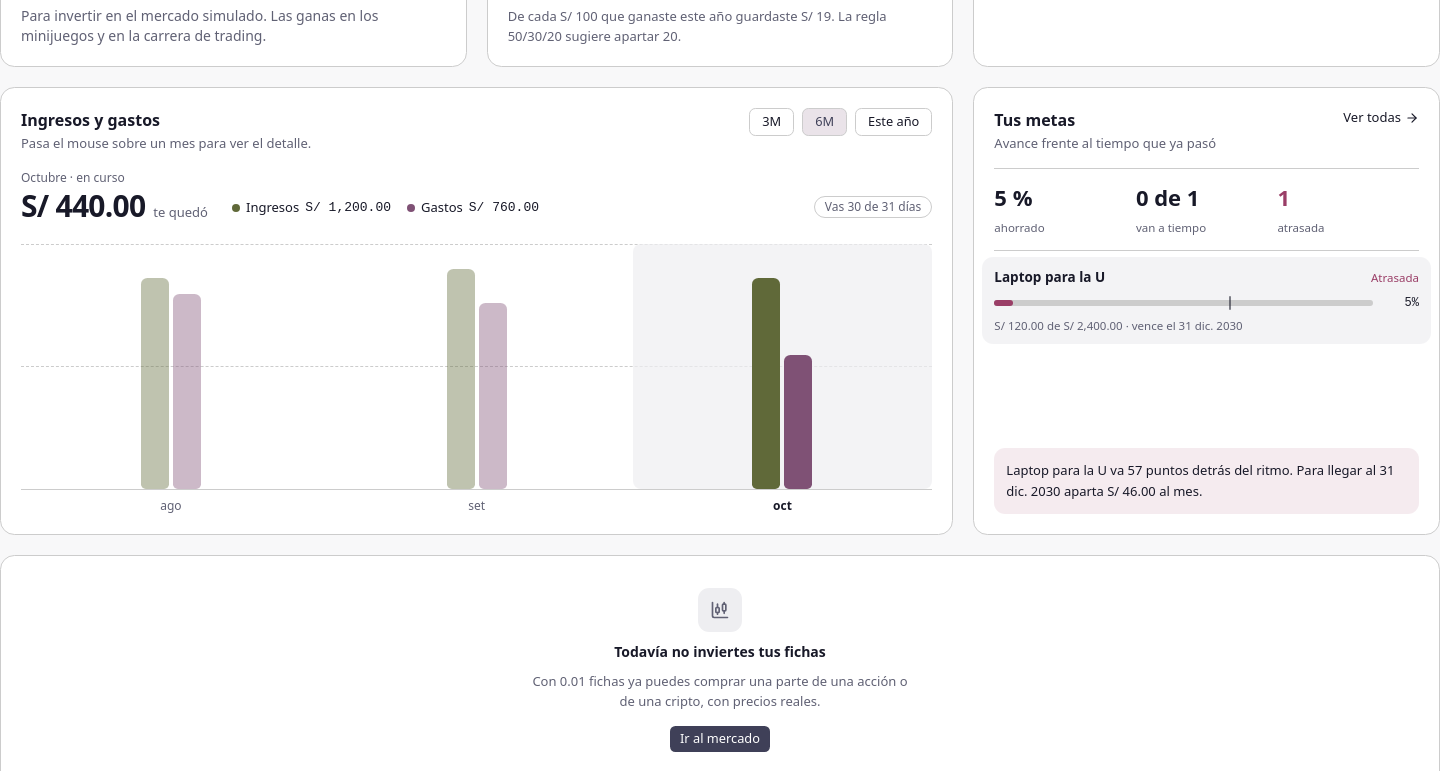
DashboardPage › pasar sobre un mes muestra lo que quedo ese mes
(page scrolled)
Hover over the button named "Setiembre: ingresos" at (477, 366), box [327,244,627,489]
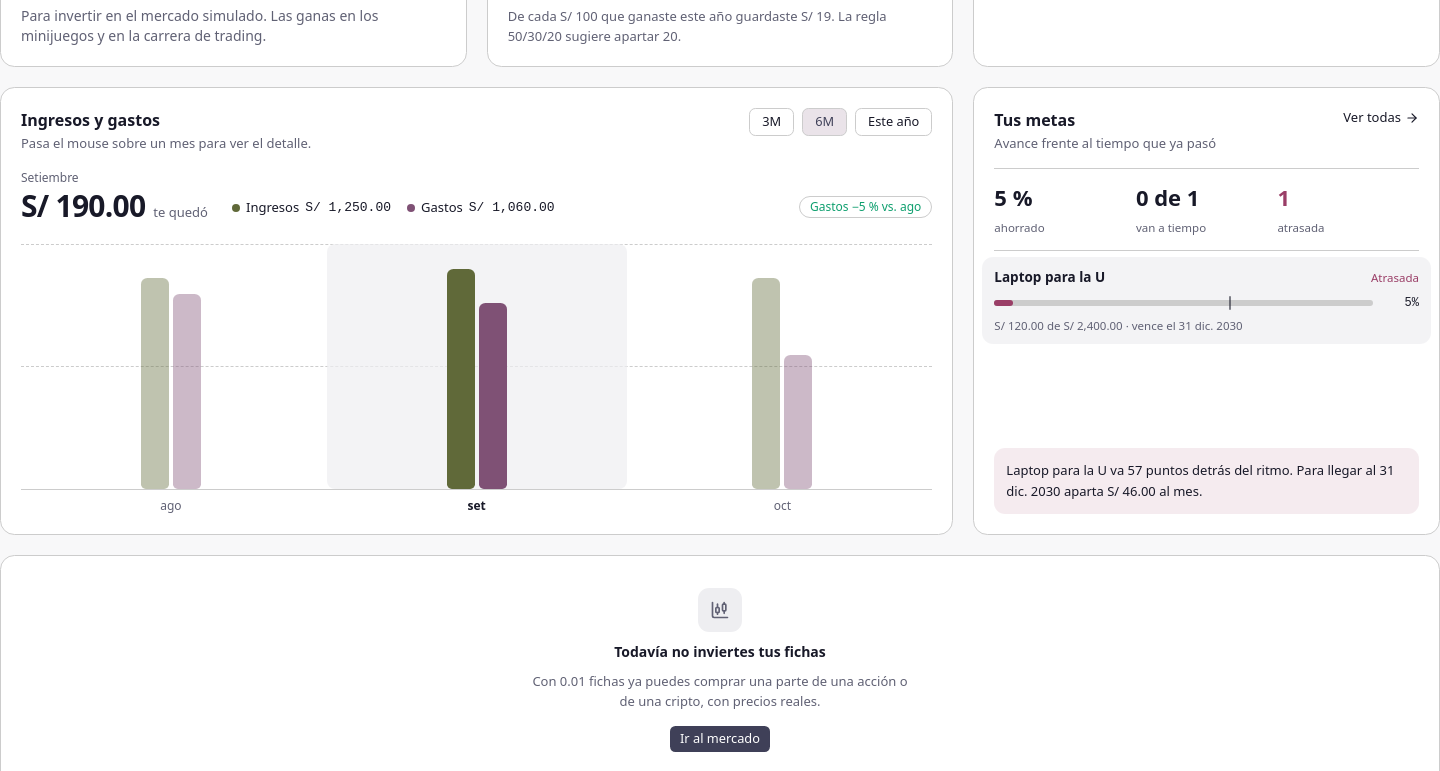
Now the text "Gastos −5 % vs. ago" is shown, box [799,196,932,218]
